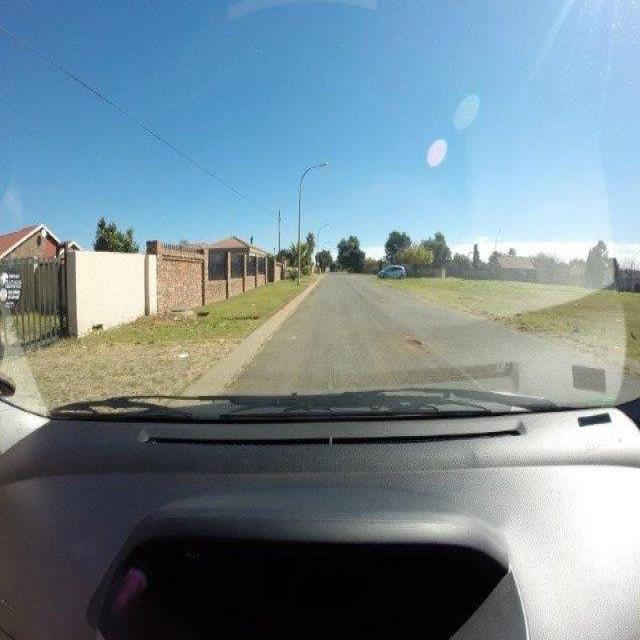lubang: (398, 333, 421, 347)
